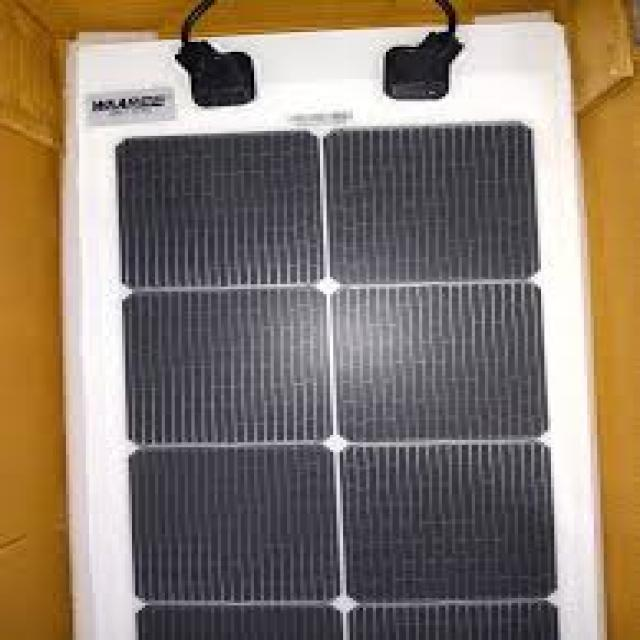no faulty: (108, 137, 576, 624)
